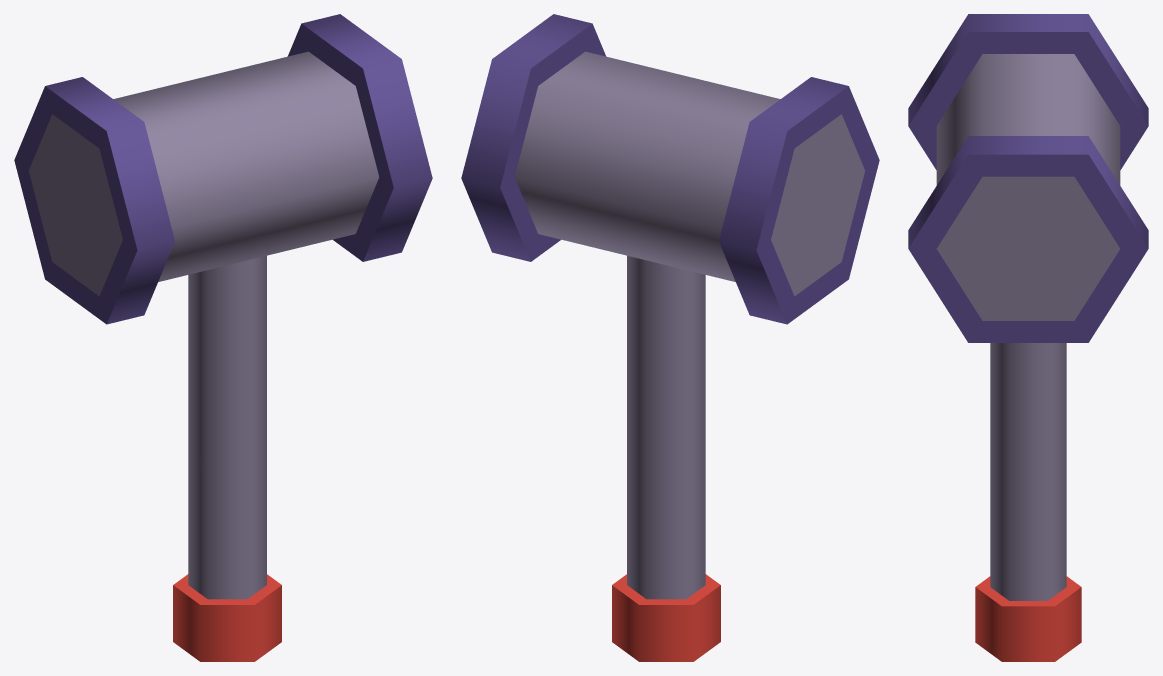
Rendered from bambam-long.fbx.
The picture shows the model from 3 angles, left to right: view 1: azimuth 30°, elevation 25°; view 2: azimuth 150°, elevation 25°; view 3: azimuth 270°, elevation 25°; orthographic projection. The views are drawn at different scales.
Parts seen in each view (by area): view 1: bambam; view 2: bambam; view 3: bambam.
Part boxes in pixels (x1,y1,x2,y2): bambam: (14, 14, 432, 661); bambam: (461, 14, 879, 661); bambam: (908, 14, 1148, 661).
Size of the model in its own units: 0.2835 by 0.5235 by 0.205.
